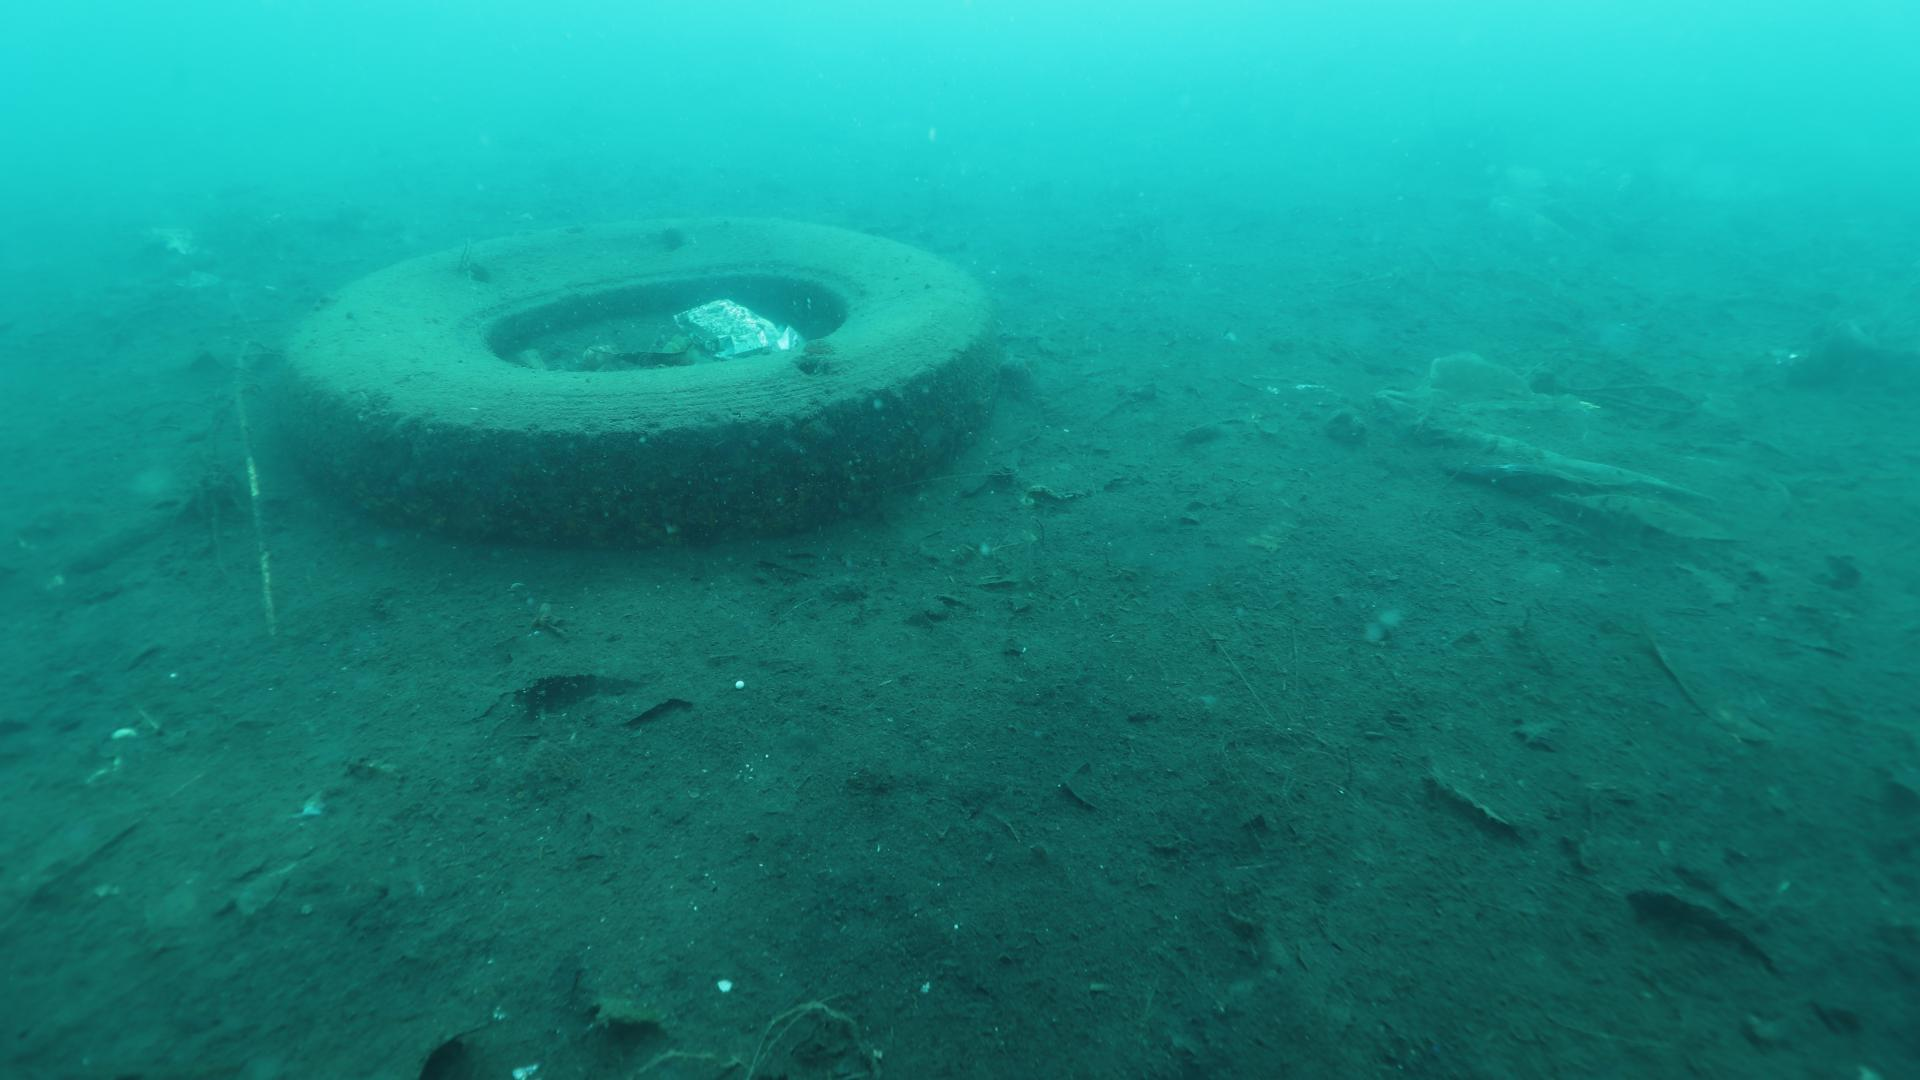tire: (272, 206, 994, 553)
